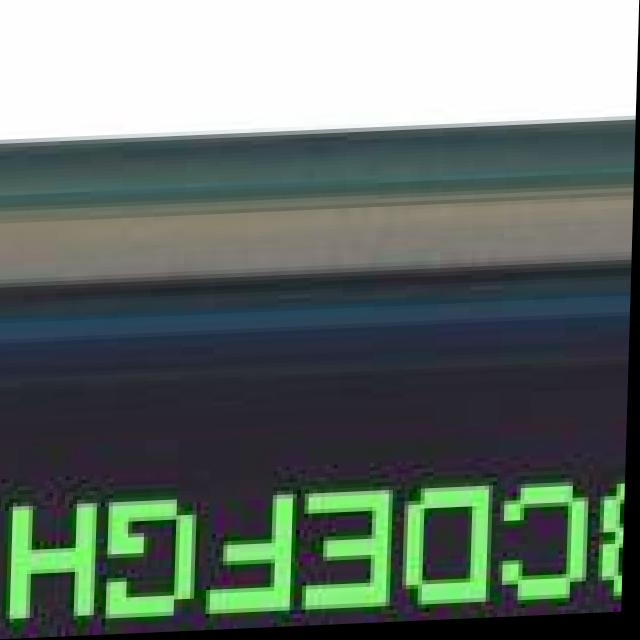display: (0, 242, 634, 640)
